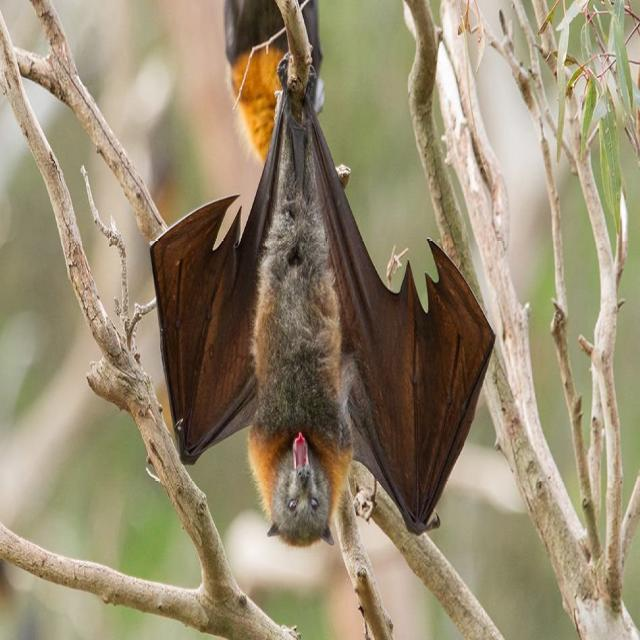Bat: (143, 52, 500, 560)
